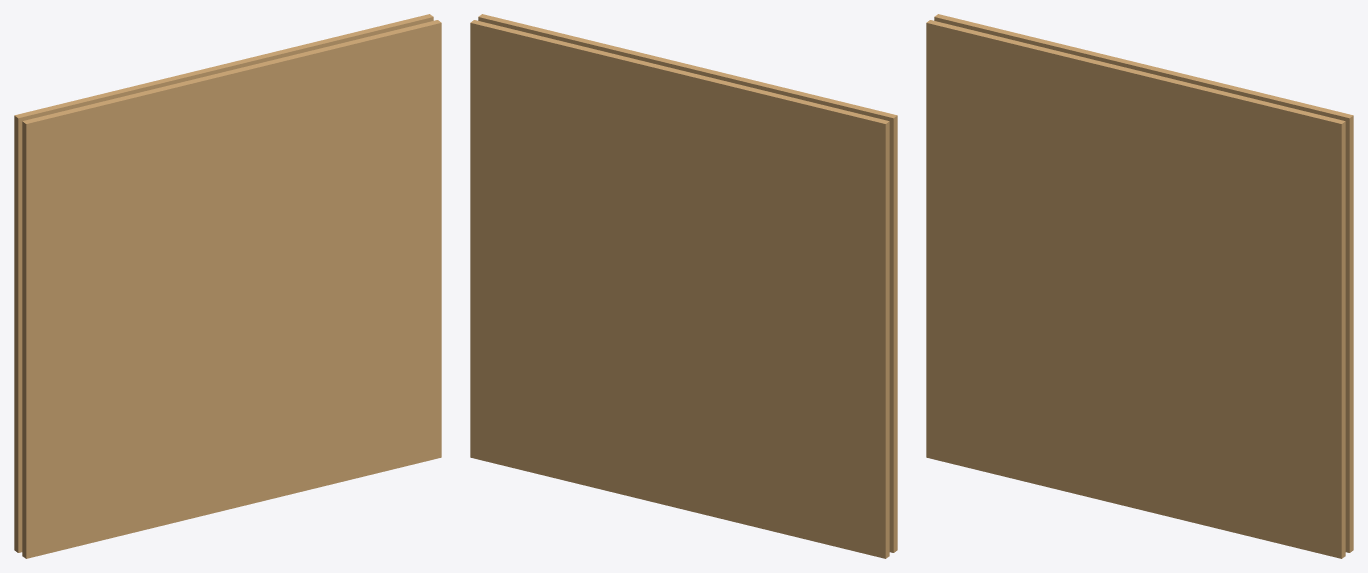
File: board.glb
3 views of the same model, side by side, from view 1: azimuth 30°, elevation 25°; view 2: azimuth 150°, elevation 25°; view 3: azimuth 330°, elevation 25° (orthographic).
Visible parts, largest first — view 1: Substrate_Layer_1, Substrate_Layer_2, Substrate_Layer_0; view 2: Substrate_Layer_0, Substrate_Layer_2, Substrate_Layer_1; view 3: Substrate_Layer_1, Substrate_Layer_2, Substrate_Layer_0.
Part boxes in pixels (bbox=[...]): Substrate_Layer_1: bbox=[22, 20, 441, 558]; Substrate_Layer_2: bbox=[164, 201, 303, 379]; Substrate_Layer_0: bbox=[14, 14, 433, 552]; Substrate_Layer_0: bbox=[470, 20, 889, 558]; Substrate_Layer_2: bbox=[608, 201, 747, 379]; Substrate_Layer_1: bbox=[478, 14, 897, 552]; Substrate_Layer_1: bbox=[926, 20, 1345, 558]; Substrate_Layer_2: bbox=[1064, 201, 1203, 379]; Substrate_Layer_0: bbox=[934, 14, 1353, 552].
Bounding box in the file's own units: 0.006 × 0.006 × 0.0003.
